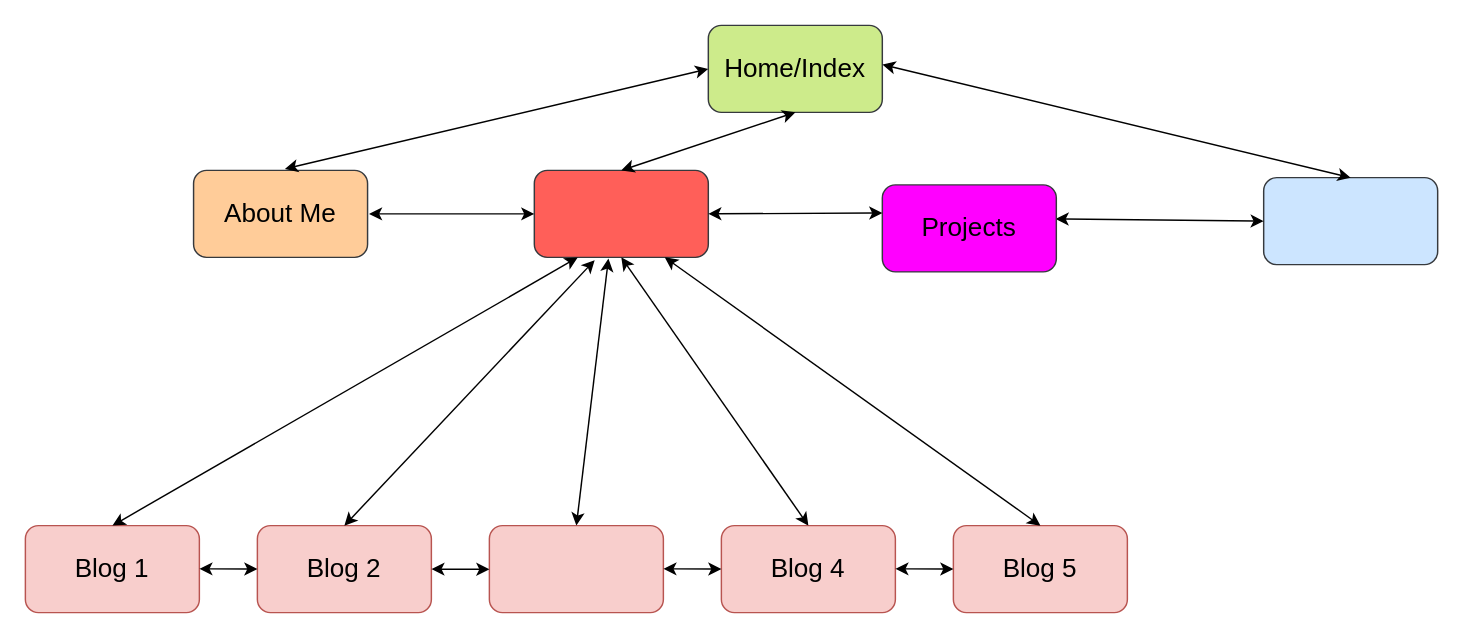
This 1463x638 diagram has some shape labels left out. Here are the shapes that lost their labels. From the top down, the box of each, then its label:
(533, 169, 708, 257): Blog
(1262, 176, 1438, 265): Contact
(488, 524, 663, 613): Blog 3
